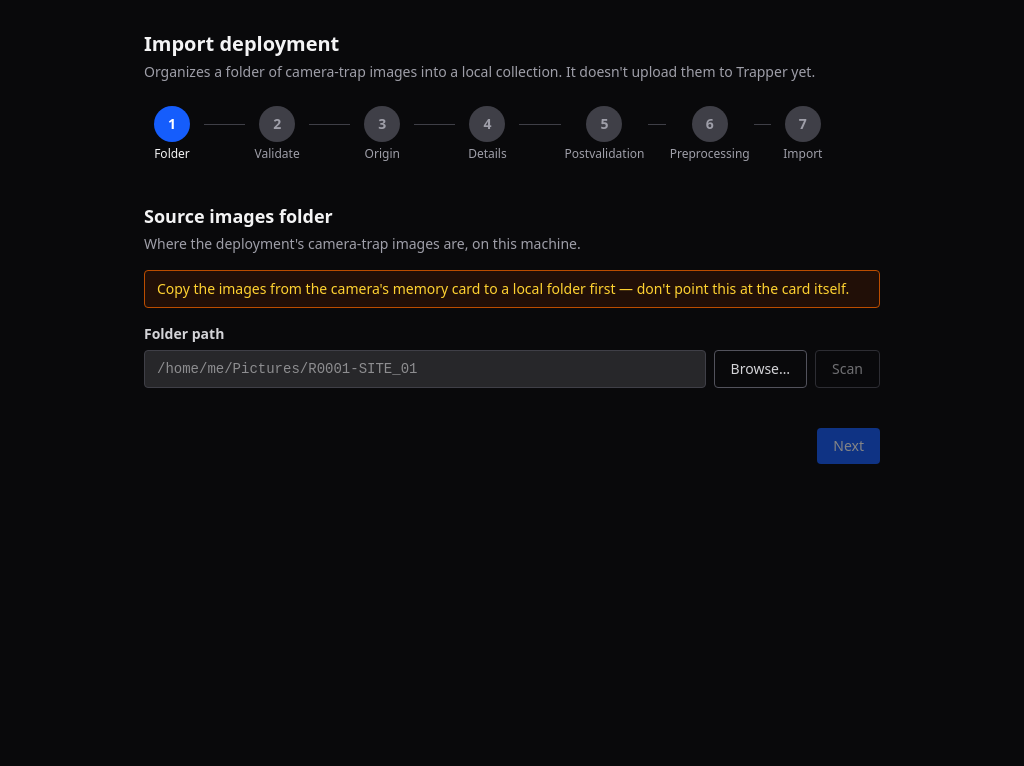
Test: ImportDeploymentPage › where the images were taken › comes right after the folder is validated, before the deployment details
Type "/home/me/deployments/DONA_01" into the field labelled "Folder path".
click(425, 369); type("/home/me/deployments/DONA_01")  # box [144, 350, 706, 388]
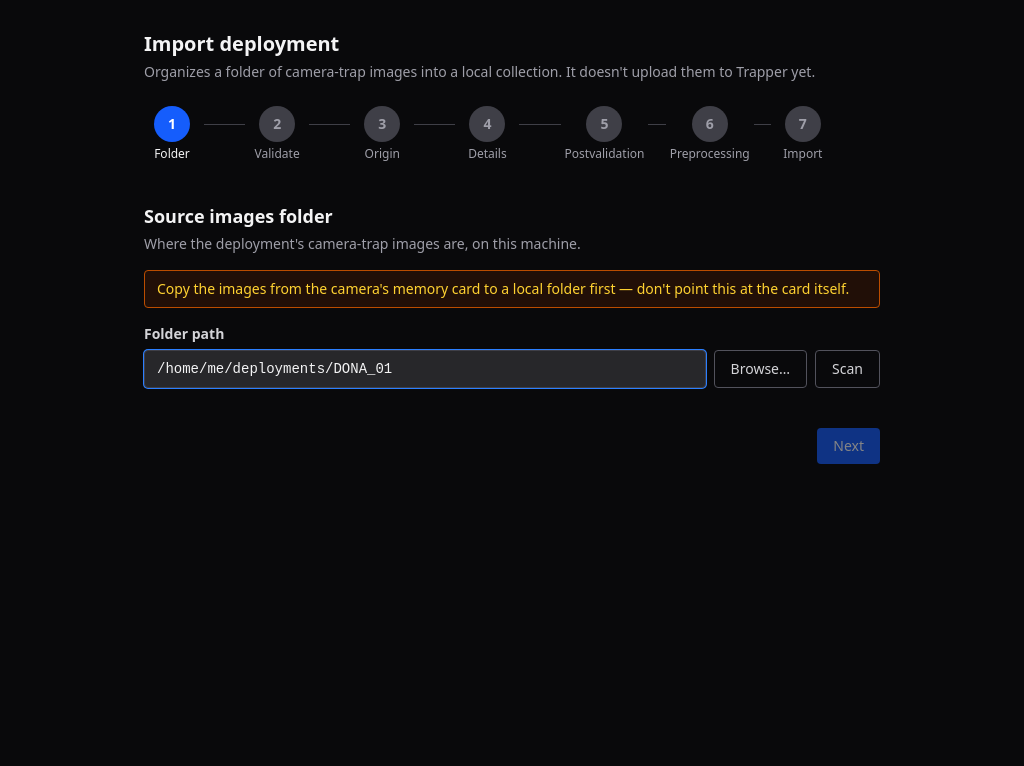
Click the button "Scan".
click(848, 369)  # box [815, 350, 880, 388]
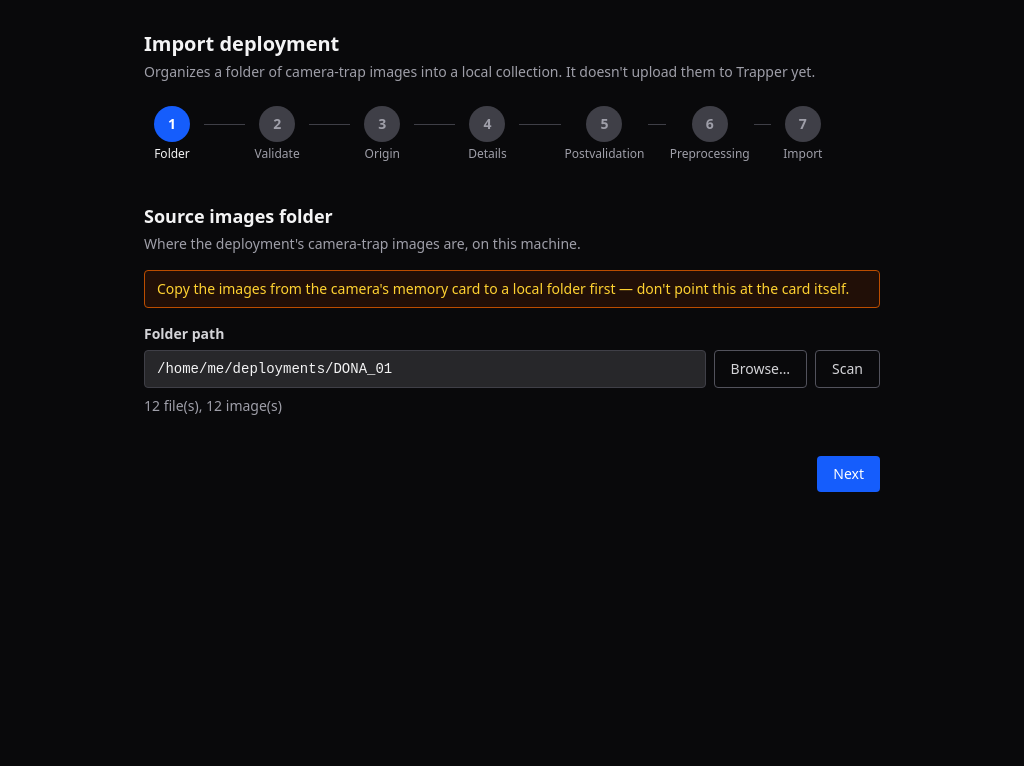
Now the text "12 file(s), 12 image(s)" is shown, box [144, 396, 282, 415]
Click the button "Next".
click(849, 474)  # box [817, 456, 880, 492]
(page scrolled)
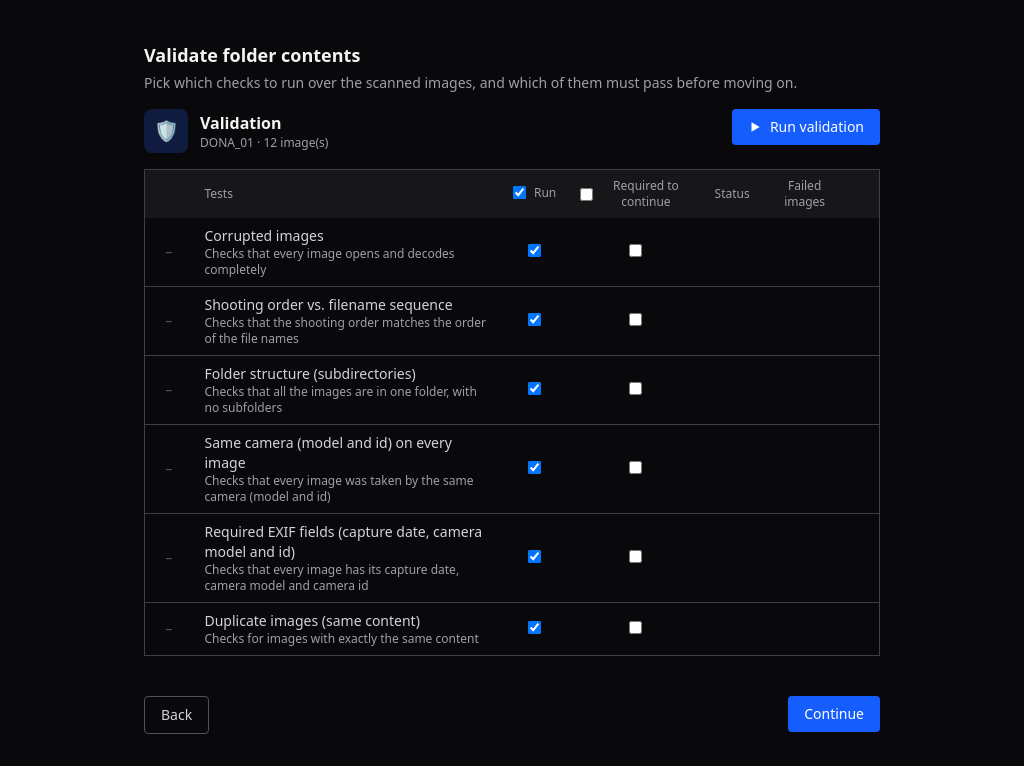
Now the heading "Validate folder contents" is shown, box [144, 43, 360, 67]
Click the button "Continue".
click(834, 714)  # box [788, 696, 880, 732]
(page scrolled)
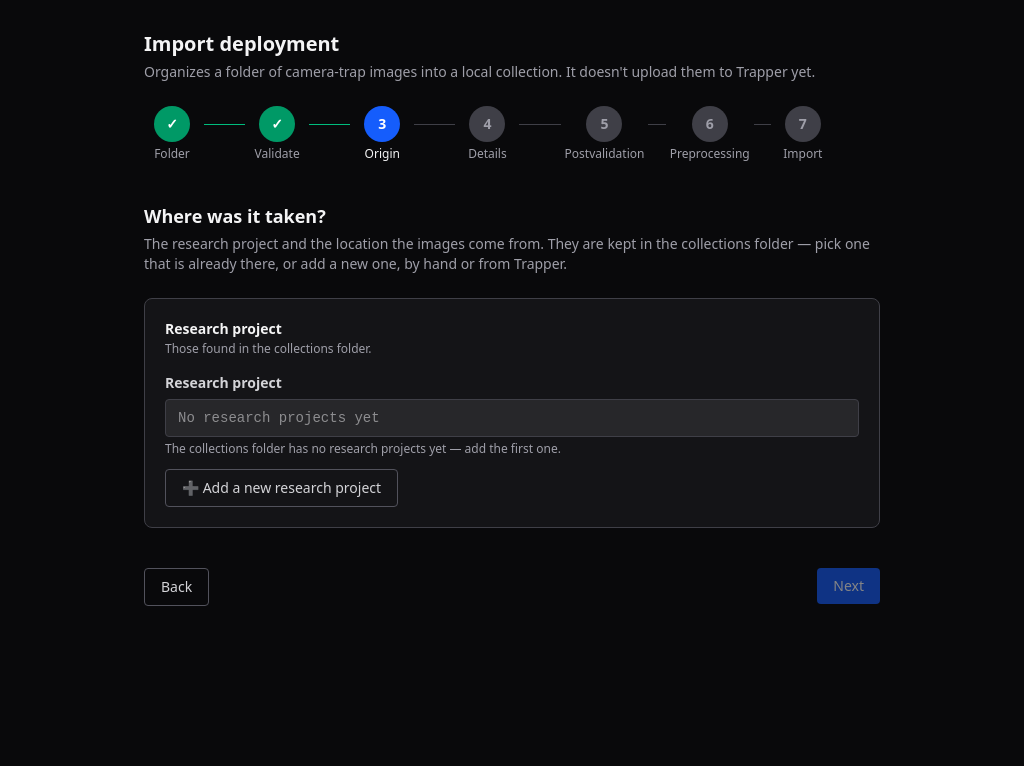
Now the heading "Where was it taken?" is shown, box [144, 204, 326, 228]
Now the dropdown labelled "Research project" is shown, box [165, 399, 859, 437]
Now the button "Next" is disabled, box [817, 568, 880, 604]
